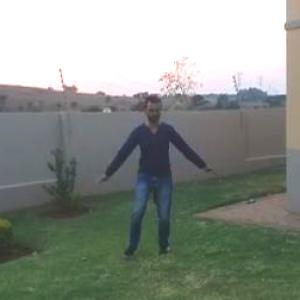land: (89, 84, 211, 266)
